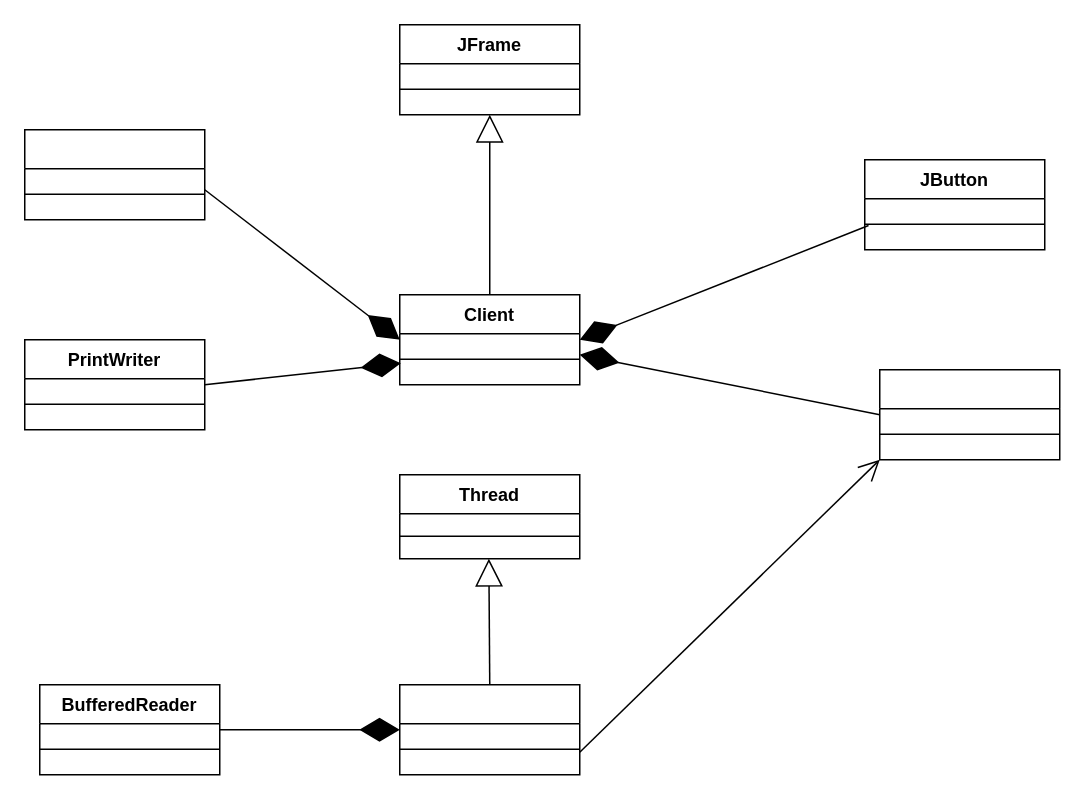
This 1085x800 diagram has some shape labels left out. The centre of each missing label's shape, as x and y in pixels:
"Ecouteur" goes at [489,729].
"JTextArea" goes at [969,414].
"Socket" goes at [114,174].
